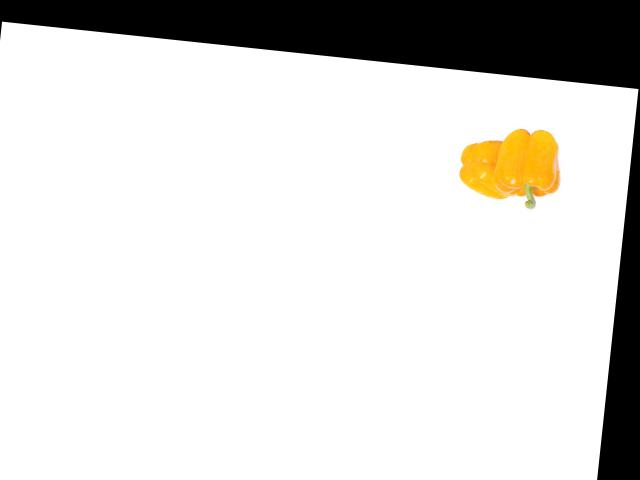bell_pepper: (452, 128, 521, 203)
